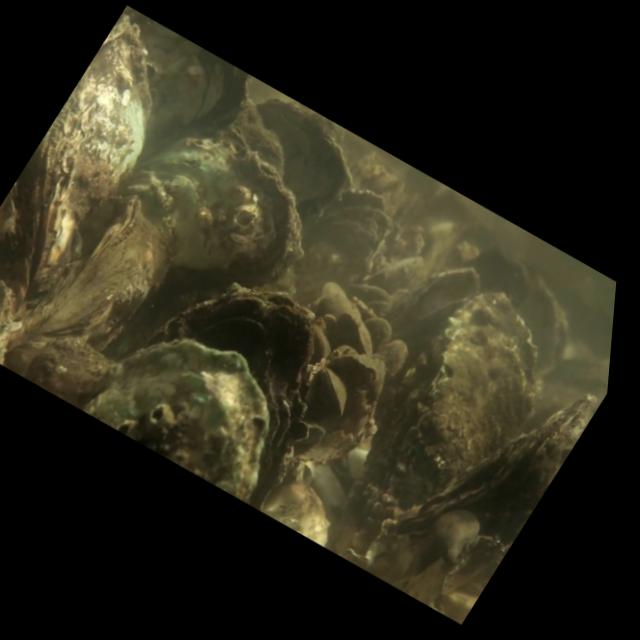Oyster-Closed: (132, 287, 318, 510), (20, 12, 160, 296), (81, 331, 275, 503), (385, 393, 595, 530), (10, 191, 171, 351), (133, 136, 308, 277), (422, 291, 548, 466), (396, 261, 483, 324), (528, 267, 577, 374), (332, 310, 375, 361), (328, 352, 382, 391), (315, 367, 352, 420)
Oyster-Indeterminate: (137, 16, 254, 131), (255, 92, 356, 195)
Oyster-Open: (310, 182, 393, 273)
